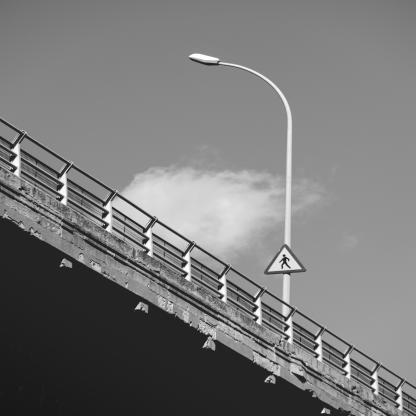light_pole: (189, 53, 294, 343)
